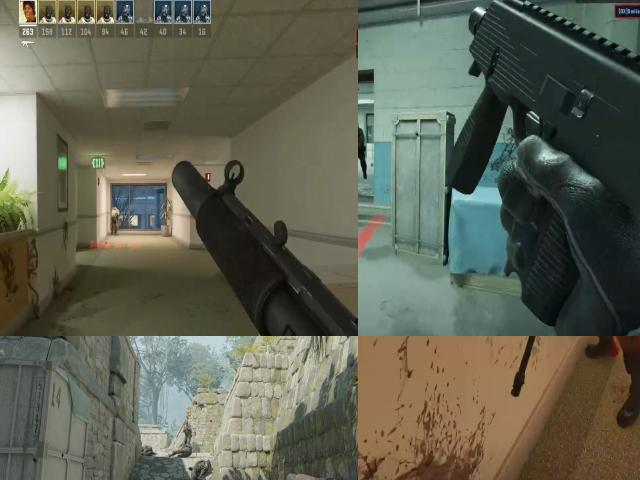CT: (180, 418, 194, 451)
CT-Head: (183, 419, 191, 427)
Dead: (182, 459, 216, 480), (168, 444, 194, 459), (140, 445, 155, 457)
T: (358, 117, 366, 166), (110, 202, 120, 228)
T-Head: (358, 118, 361, 132)
